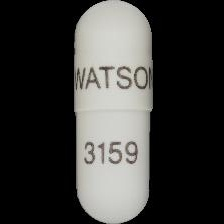68151-2987: (0, 0, 224, 224)
